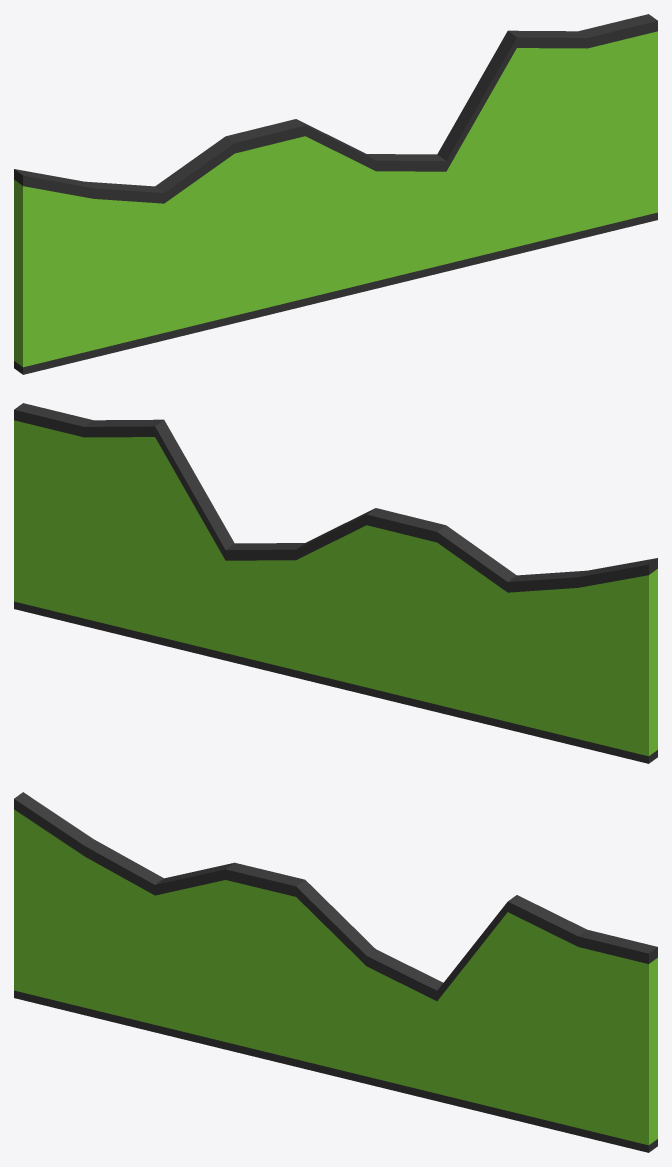
File: hill3.fbx
The picture shows the model from 3 angles, top to bottom: view 1: azimuth 30°, elevation 25°; view 2: azimuth 150°, elevation 25°; view 3: azimuth 330°, elevation 25°; orthographic projection.
Parts seen in each view (by area): view 1: Hill 3; view 2: Hill 3; view 3: Hill 3.
Boxes of the visible parts, left/top/right/bottom form: Hill 3: left=14, top=14, right=657, bottom=374; Hill 3: left=14, top=403, right=657, bottom=763; Hill 3: left=14, top=792, right=657, bottom=1152.
Size of the model in its own units: 800 by 20 by 261.
